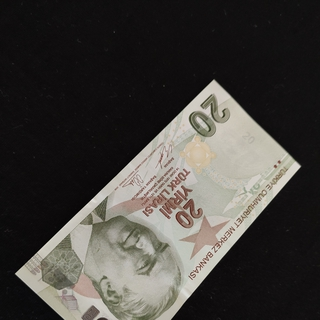20TLFront: (15, 78, 302, 320)
